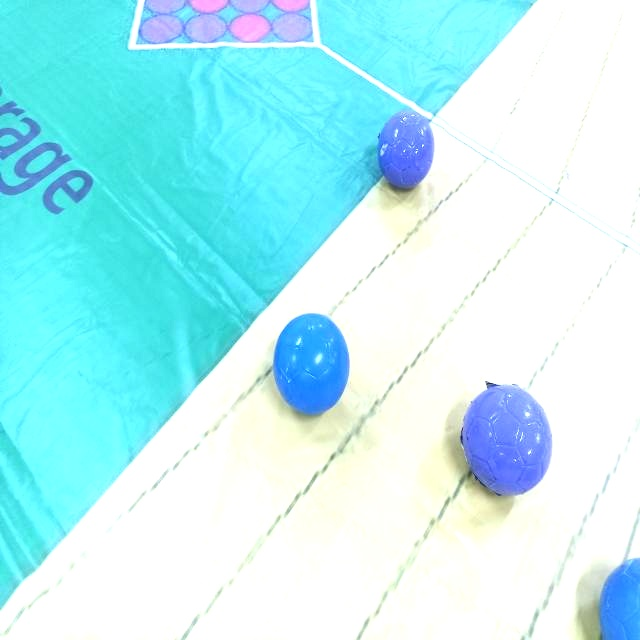blue_ball: (274, 305, 351, 419), (594, 540, 640, 640)
purple_ball: (462, 378, 556, 497), (377, 106, 436, 195)
